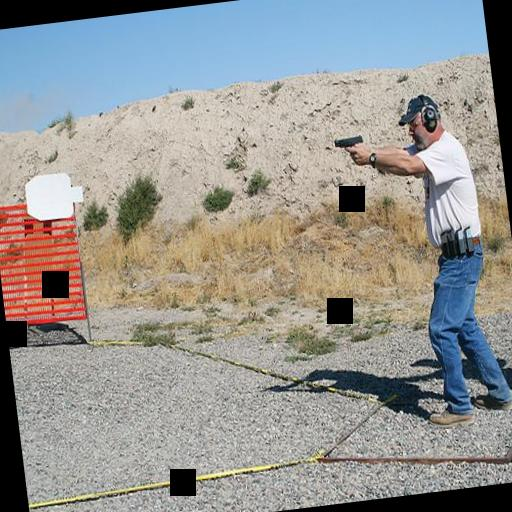Handgun: (332, 132, 363, 158)
